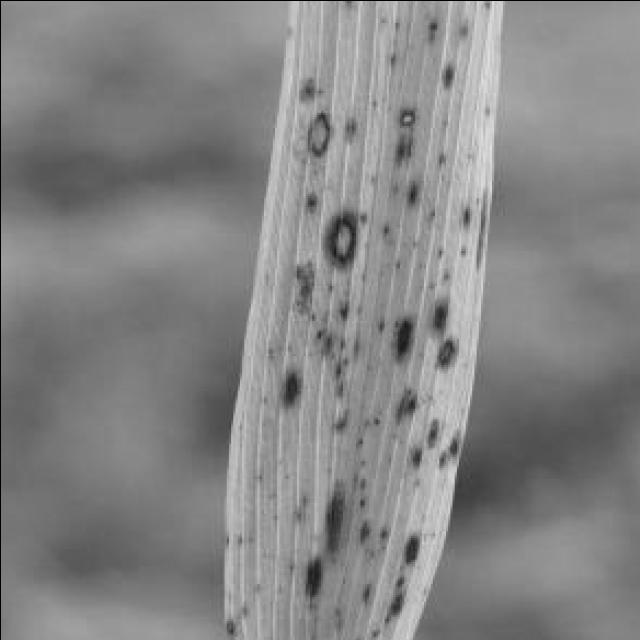Brown_Spot: (465, 171, 493, 281), (316, 469, 350, 559), (314, 206, 359, 272), (265, 355, 309, 421), (298, 100, 333, 166), (384, 378, 426, 430), (285, 254, 318, 320), (294, 546, 326, 610), (418, 288, 452, 340), (386, 306, 414, 368), (377, 583, 410, 625), (394, 524, 424, 570), (432, 50, 461, 96), (430, 329, 458, 375), (438, 420, 466, 460), (401, 171, 423, 213), (418, 412, 441, 452), (399, 438, 425, 472), (449, 9, 472, 44), (353, 574, 377, 607), (454, 197, 474, 235), (418, 13, 441, 46), (392, 99, 417, 129), (350, 515, 372, 548), (328, 370, 348, 406), (430, 442, 450, 476), (215, 610, 241, 636), (326, 404, 348, 434), (338, 110, 358, 142), (346, 326, 362, 364), (379, 40, 399, 70), (322, 612, 352, 632), (386, 566, 412, 588), (294, 72, 314, 100), (316, 329, 334, 359), (298, 186, 318, 212), (283, 504, 309, 524), (324, 351, 344, 377), (428, 144, 450, 167), (348, 491, 371, 511), (225, 416, 248, 436), (331, 298, 351, 320), (348, 469, 368, 491), (215, 528, 232, 552), (428, 241, 448, 261), (434, 263, 454, 283), (246, 574, 266, 594), (370, 522, 392, 540), (278, 18, 296, 40), (366, 618, 384, 640), (278, 336, 296, 358), (300, 302, 318, 324), (460, 140, 478, 162), (370, 312, 386, 336), (352, 202, 368, 226), (476, 100, 494, 120), (364, 90, 379, 114), (364, 408, 382, 428), (348, 430, 366, 450), (350, 454, 370, 472), (370, 537, 390, 555), (254, 388, 272, 408), (294, 488, 312, 508), (405, 228, 423, 248), (374, 215, 390, 237), (270, 574, 286, 596), (234, 596, 250, 618), (379, 447, 395, 469), (422, 520, 438, 542), (362, 166, 379, 186), (331, 327, 344, 352), (265, 508, 283, 526), (422, 202, 438, 222), (230, 528, 246, 548), (434, 112, 449, 132), (386, 175, 399, 198), (386, 13, 402, 31), (320, 276, 336, 294), (416, 580, 432, 598), (217, 629, 243, 640), (372, 10, 388, 27), (260, 342, 276, 359), (454, 241, 469, 259), (408, 471, 423, 489), (309, 320, 322, 340), (351, 296, 364, 316), (282, 558, 298, 574), (333, 570, 349, 586), (326, 600, 342, 616), (412, 254, 428, 270), (388, 254, 401, 272), (344, 631, 370, 640), (474, 0, 494, 11), (252, 467, 265, 482), (278, 469, 292, 482), (335, 0, 355, 9)
